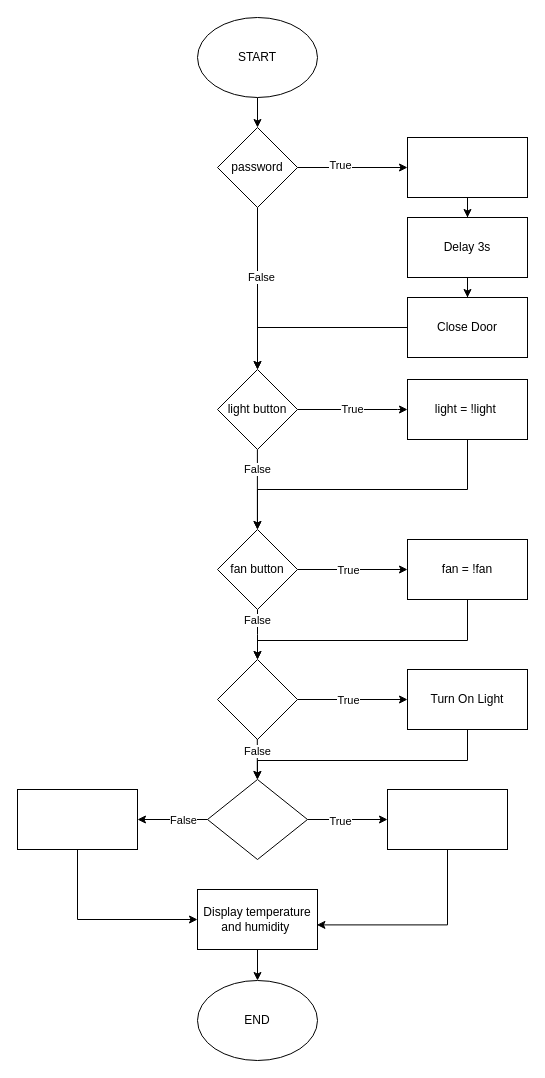
This 545x1078 diagram has some shape labels left out. Here are the shapes that lost their labels. From the top down, the centre of each, then its label:
the point at 467,167: Open Door
the point at 257,699: PIR sensor
the point at 77,819: Alarm OFF
the point at 257,819: temperature>43
the point at 447,819: Alarm On
